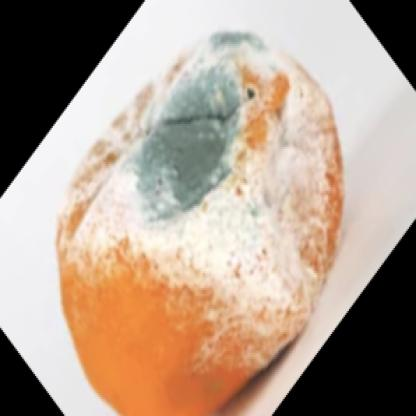rotten: (56, 28, 345, 416)
